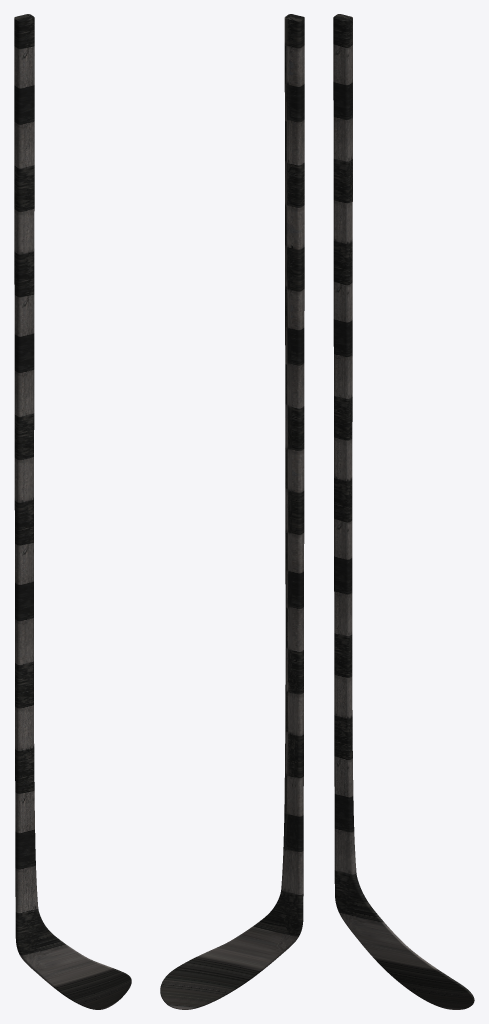
The picture shows the model from 3 angles, left to right: view 1: azimuth 30°, elevation 25°; view 2: azimuth 150°, elevation 25°; view 3: azimuth 330°, elevation 25°; orthographic projection. The views are drawn at different scales.
Visible parts, largest first — view 1: geometry_0; view 2: geometry_0; view 3: geometry_0.
Boxes of the visible parts, <box> form: geometry_0: <box>14,14,131,1009</box>; geometry_0: <box>160,14,304,1009</box>; geometry_0: <box>333,14,474,1009</box>.
Size of the model in its own units: 219 by 1650 by 62.21.
1 material, 1 textured.
